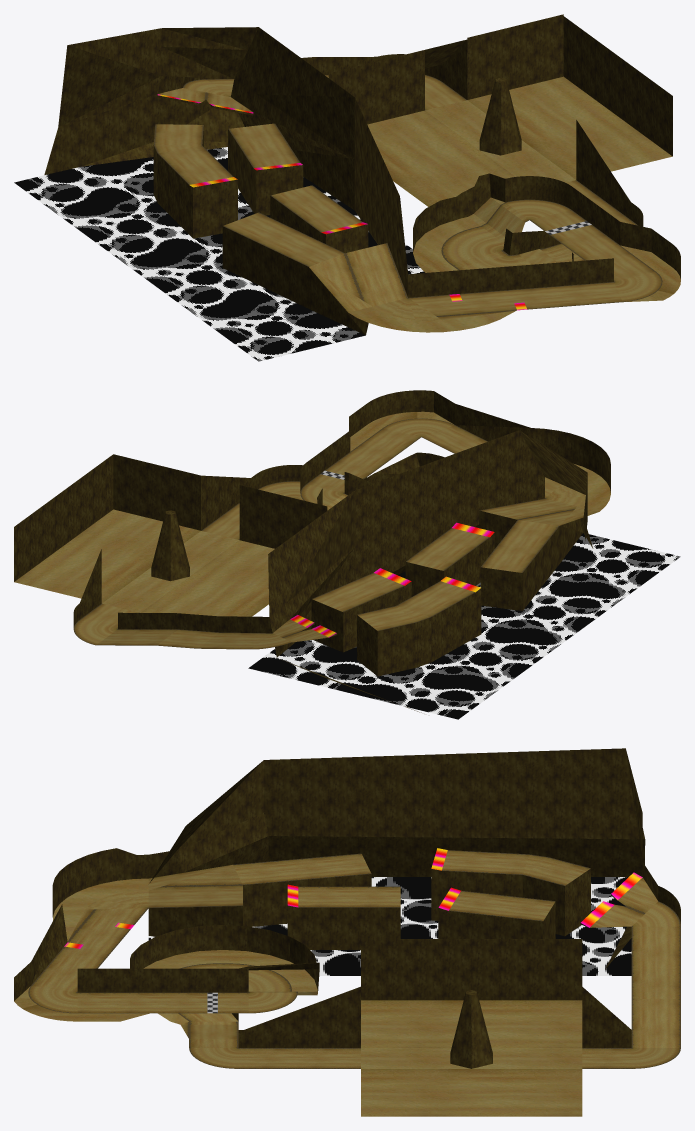
The picture shows the model from 3 angles, top to bottom: view 1: azimuth 30°, elevation 25°; view 2: azimuth 150°, elevation 25°; view 3: azimuth 270°, elevation 25°; orthographic projection. The views are drawn at different scales.
Parts seen in each view (by area): view 1: course-SKP--wall.006, course-SKP--road.007, course-SKP--plateau.001, course-SKP--flotte.001, course-SKP--rampe.001; view 2: course-SKP--wall.006, course-SKP--flotte.001, course-SKP--road.007, course-SKP--plateau.001, course-SKP--rampe.001; view 3: course-SKP--wall.006, course-SKP--road.007, course-SKP--plateau.001, course-SKP--flotte.001, course-SKP--rampe.001.
Part boxes in pixels (<box>): course-SKP--wall.006: <box>44,14,680,335</box>; course-SKP--road.007: <box>153,75,662,320</box>; course-SKP--plateau.001: <box>348,76,680,332</box>; course-SKP--flotte.001: <box>14,147,424,361</box>; course-SKP--rampe.001: <box>157,94,527,310</box>; course-SKP--wall.006: <box>14,390,610,712</box>; course-SKP--flotte.001: <box>248,533,680,719</box>; course-SKP--road.007: <box>73,418,598,649</box>; course-SKP--plateau.001: <box>14,411,610,616</box>; course-SKP--rampe.001: <box>290,522,494,637</box>; course-SKP--wall.006: <box>14,748,680,1068</box>; course-SKP--road.007: <box>28,850,680,1068</box>; course-SKP--plateau.001: <box>14,878,582,1116</box>; course-SKP--flotte.001: <box>148,877,631,975</box>; course-SKP--rampe.001: <box>64,848,642,948</box>.
Size of the model in its own units: 43058 by 11757 by 47298.
6 materials, 6 textured.
